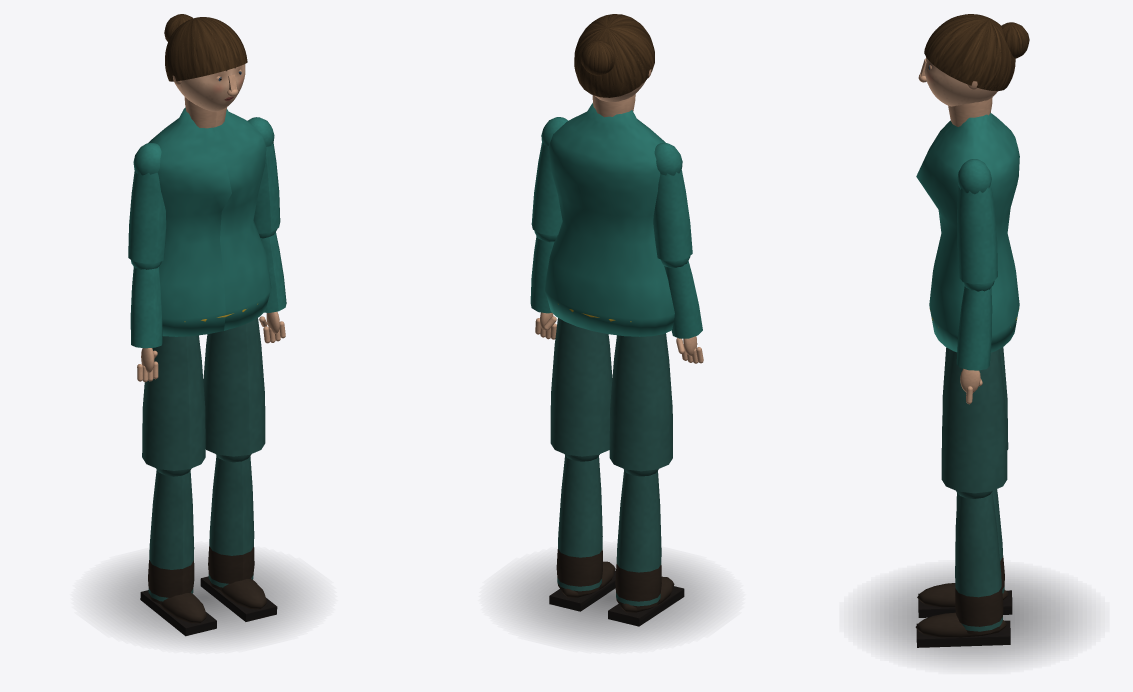
The model's file is npc_teacher.glb.
3 renders of one model, left to right at view 1: azimuth 30°, elevation 25°; view 2: azimuth 150°, elevation 25°; view 3: azimuth 270°, elevation 25°, orthographic. The views are drawn at different scales.
Parts seen in each view (by area): view 1: chest, object 11, legR, legL, shinR, shinL, head, armL, foreL, armR, foreR; view 2: chest, object 11, legL, legR, shinL, shinR, head, armL, foreL, armR, foreR; view 3: chest, object 11, shinR, legR, head, armR, foreR, shinL, legL.
Part boxes in pixels (box(x1,y1,x2,y2)): chest: box(148, 97, 271, 336); object 11: box(97, 553, 309, 642); legR: box(203, 318, 265, 456); legL: box(142, 335, 205, 470); shinR: box(200, 454, 277, 621); shinL: box(140, 468, 216, 636); head: box(164, 14, 247, 111); armL: box(128, 143, 166, 263); foreL: box(130, 260, 162, 382); armR: box(247, 117, 280, 233); foreR: box(259, 228, 286, 343); chest: box(544, 94, 674, 336); object 11: box(506, 553, 718, 642); legL: box(609, 333, 672, 471); legR: box(550, 318, 612, 456); shinL: box(608, 469, 684, 626); shinR: box(549, 454, 615, 611); head: box(574, 14, 654, 102); armL: box(653, 143, 692, 261); foreL: box(660, 256, 703, 363); armR: box(531, 117, 568, 235); foreR: box(530, 230, 557, 339); chest: box(916, 97, 1019, 352); object 11: box(866, 571, 1082, 662); shinR: box(915, 491, 1010, 647); legR: box(941, 349, 1007, 493); head: box(918, 14, 1029, 106); armR: box(957, 159, 997, 284); foreR: box(956, 281, 994, 404); shinL: box(917, 489, 1012, 617); legL: box(942, 347, 1008, 449).
Bounding box in the file's own units: 0.77 × 1.79 × 0.77.
6 materials, 5 textured.
